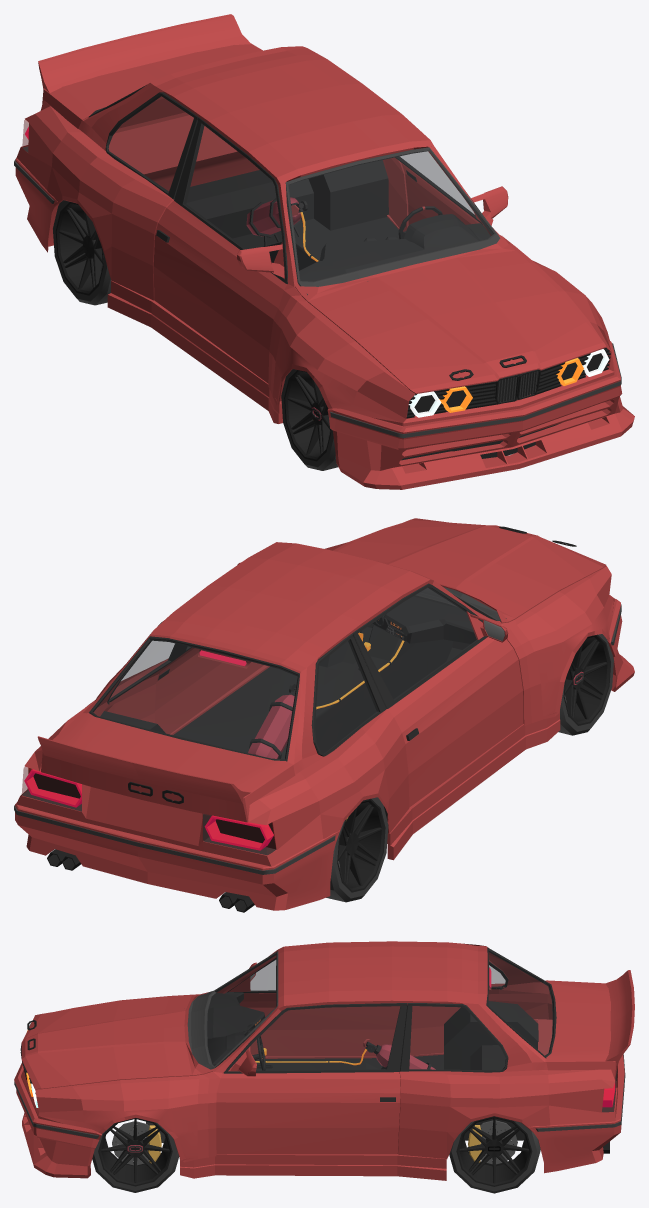
Rendered from car1.fbx.
3 views of the same model, one above another, from view 1: azimuth 30°, elevation 25°; view 2: azimuth 150°, elevation 25°; view 3: azimuth 270°, elevation 25° (orthographic). The views are drawn at different scales.
Visible parts, largest first — view 1: pPlane1, pCube25, polySurface45, polySurface1, polySurface2, pPlane3, pCube18, pCube54, pPlane8, pCube31, pCube30, polySurface3 (+20 smaller); view 2: pCube25, polySurface1, polySurface2, polySurface46, pPlane1, pCube31, pCube54, pCube23, pPlane3, pPlane8, pPlane9, pCube21 (+16 smaller); view 3: polySurface2, polySurface1, pCube25, pPlane1, pPlane3, pPlane8, pCube21, pCube54, pPlane9, pCube23, polySurface45, polySurface46 (+21 smaller).
Boxes of the visible parts, box(x1,y1,x2,y2) form: pPlane1: box(295, 236, 606, 394); pCube25: box(78, 46, 433, 185); polySurface45: box(289, 151, 492, 281); polySurface1: box(16, 98, 408, 300); polySurface2: box(153, 162, 480, 383); pPlane3: box(268, 235, 614, 426); pCube18: box(332, 366, 634, 489); pCube54: box(186, 160, 399, 270); pPlane8: box(184, 124, 474, 262); pCube31: box(15, 115, 259, 252); pCube30: box(38, 14, 250, 93); polySurface3: box(327, 341, 622, 449); pCube25: box(83, 542, 433, 774); polySurface1: box(16, 658, 409, 866); polySurface2: box(154, 637, 523, 807); polySurface46: box(93, 639, 297, 758); pPlane1: box(336, 518, 606, 623); pCube31: box(15, 797, 339, 910); pCube54: box(100, 624, 470, 821); pCube23: box(41, 713, 295, 822); pPlane3: box(325, 523, 614, 725); pPlane8: box(358, 587, 477, 700); pPlane9: box(110, 640, 378, 753); pCube21: box(170, 665, 560, 860); polySurface2: box(216, 993, 400, 1154); polySurface1: box(397, 983, 617, 1158); pCube25: box(278, 941, 549, 1071); pPlane1: box(21, 992, 212, 1089); pPlane3: box(21, 994, 223, 1162); pPlane8: box(250, 960, 400, 1070); pCube21: box(180, 1052, 446, 1180); pCube54: box(146, 1001, 538, 1142); pPlane9: box(409, 966, 505, 1070); pCube23: box(546, 980, 618, 1079); polySurface45: box(206, 954, 275, 1065); polySurface46: box(489, 950, 553, 1054).
Bounding box in the file's own units: 1.79 × 1.29 × 4.22.
